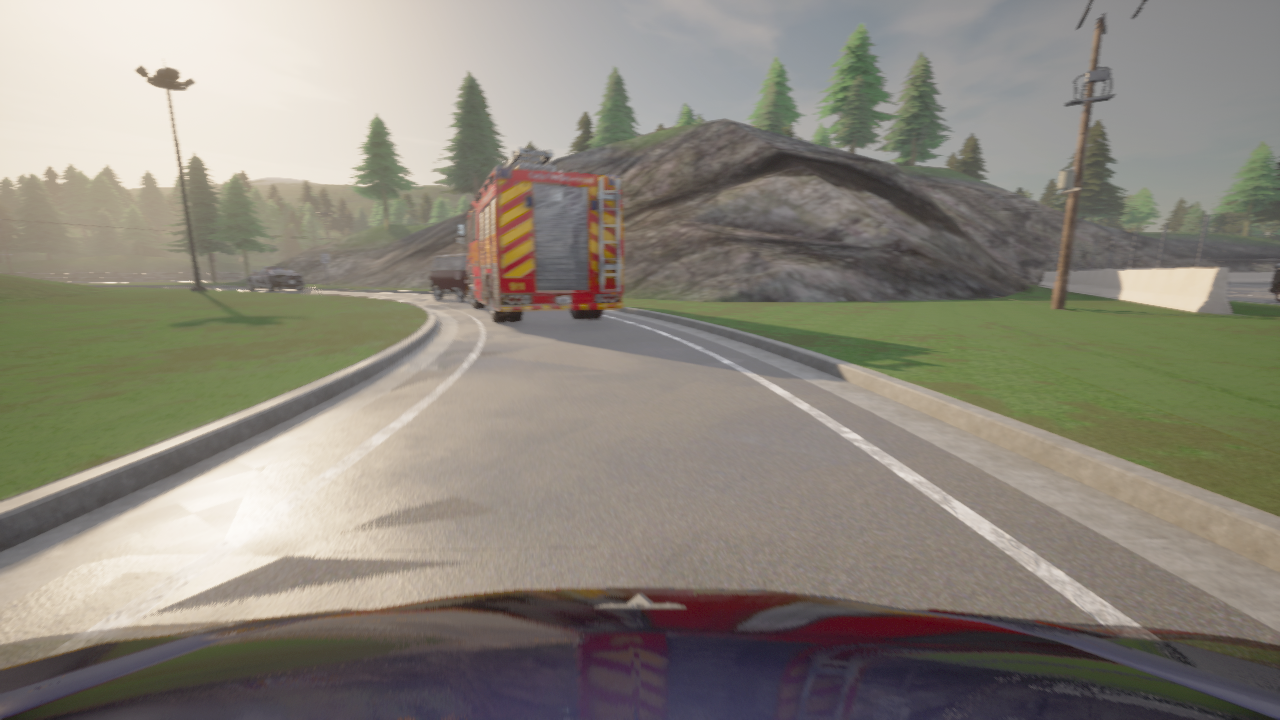cyclist: (0, 588, 1279, 719), (457, 147, 622, 322), (428, 253, 469, 303), (247, 267, 304, 291), (1269, 264, 1279, 302)
